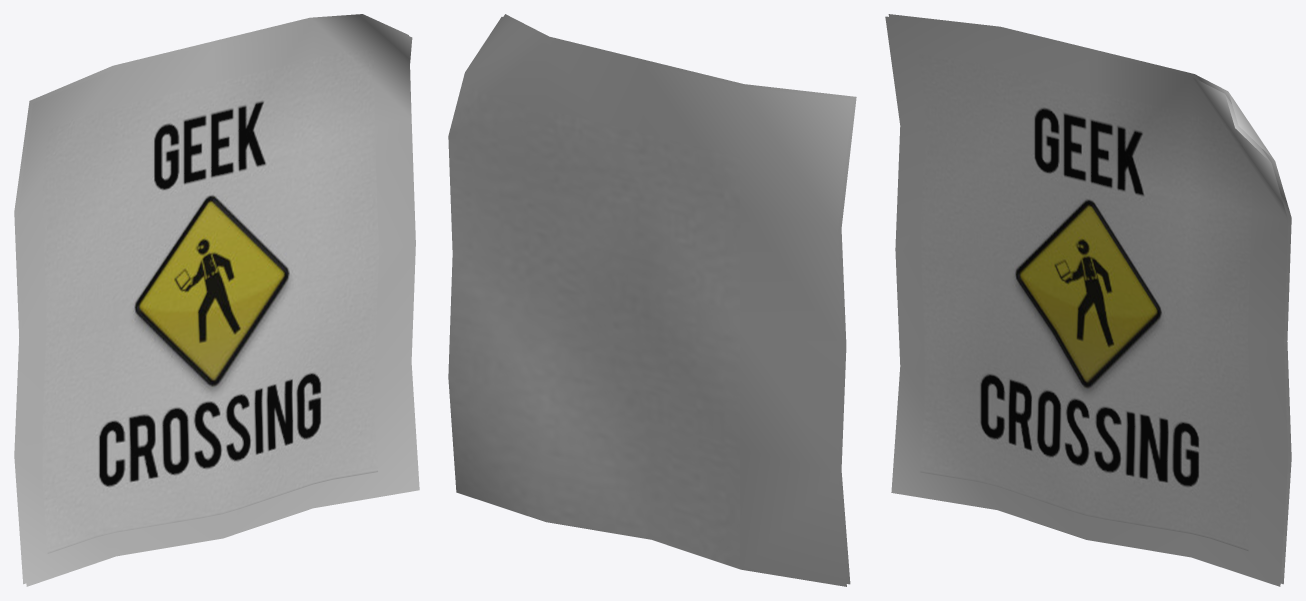
File: Poster 1.FBX
3 renders of one model, left to right at view 1: azimuth 30°, elevation 25°; view 2: azimuth 150°, elevation 25°; view 3: azimuth 330°, elevation 25°, orthographic.
Visible parts, largest first — view 1: Poster 1; view 2: Poster 1; view 3: Poster 1.
Part boxes in pixels (box(x1,y1,x2,y2)): Poster 1: box(14, 14, 419, 586); Poster 1: box(448, 14, 856, 586); Poster 1: box(885, 14, 1291, 586).
Bounding box in the file's own units: 805 × 109 × 953.
1 material, 1 textured.
